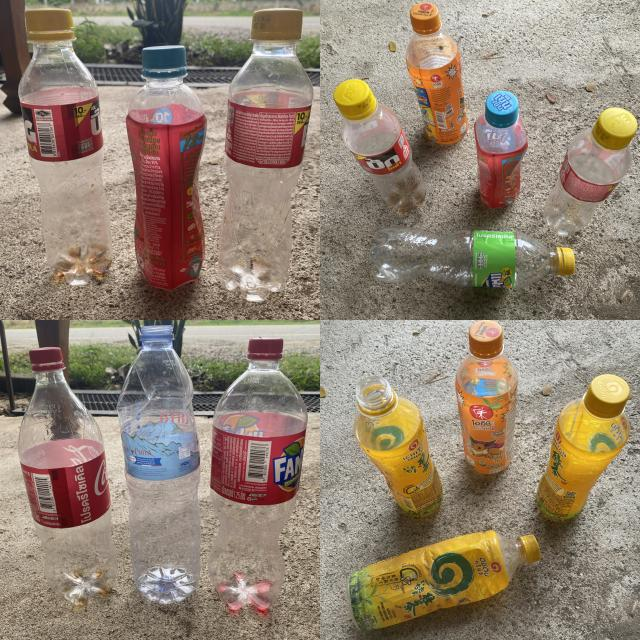plastik: (219, 9, 314, 299), (209, 338, 308, 611), (18, 348, 118, 605), (19, 9, 112, 284), (116, 325, 200, 604), (126, 45, 206, 289), (348, 531, 541, 631), (536, 374, 630, 520), (370, 228, 575, 288), (334, 79, 425, 214), (544, 108, 638, 236), (354, 378, 442, 514), (455, 320, 518, 474), (406, 2, 469, 144), (474, 91, 528, 208)
